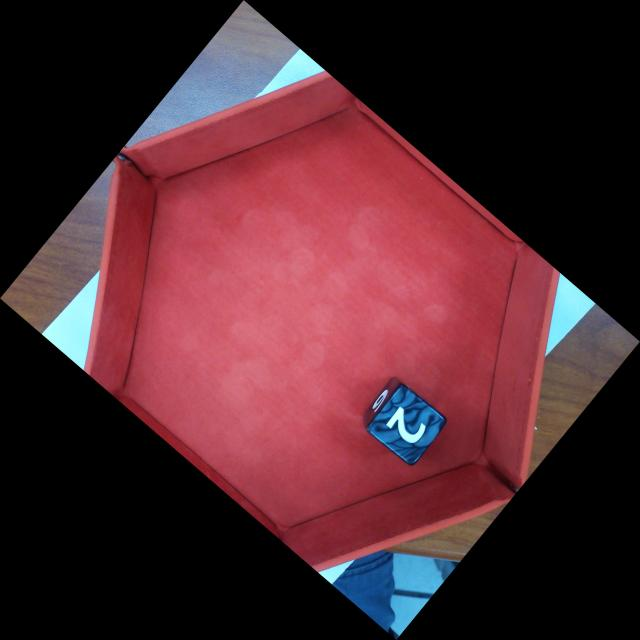dice: (363, 382, 450, 468)
